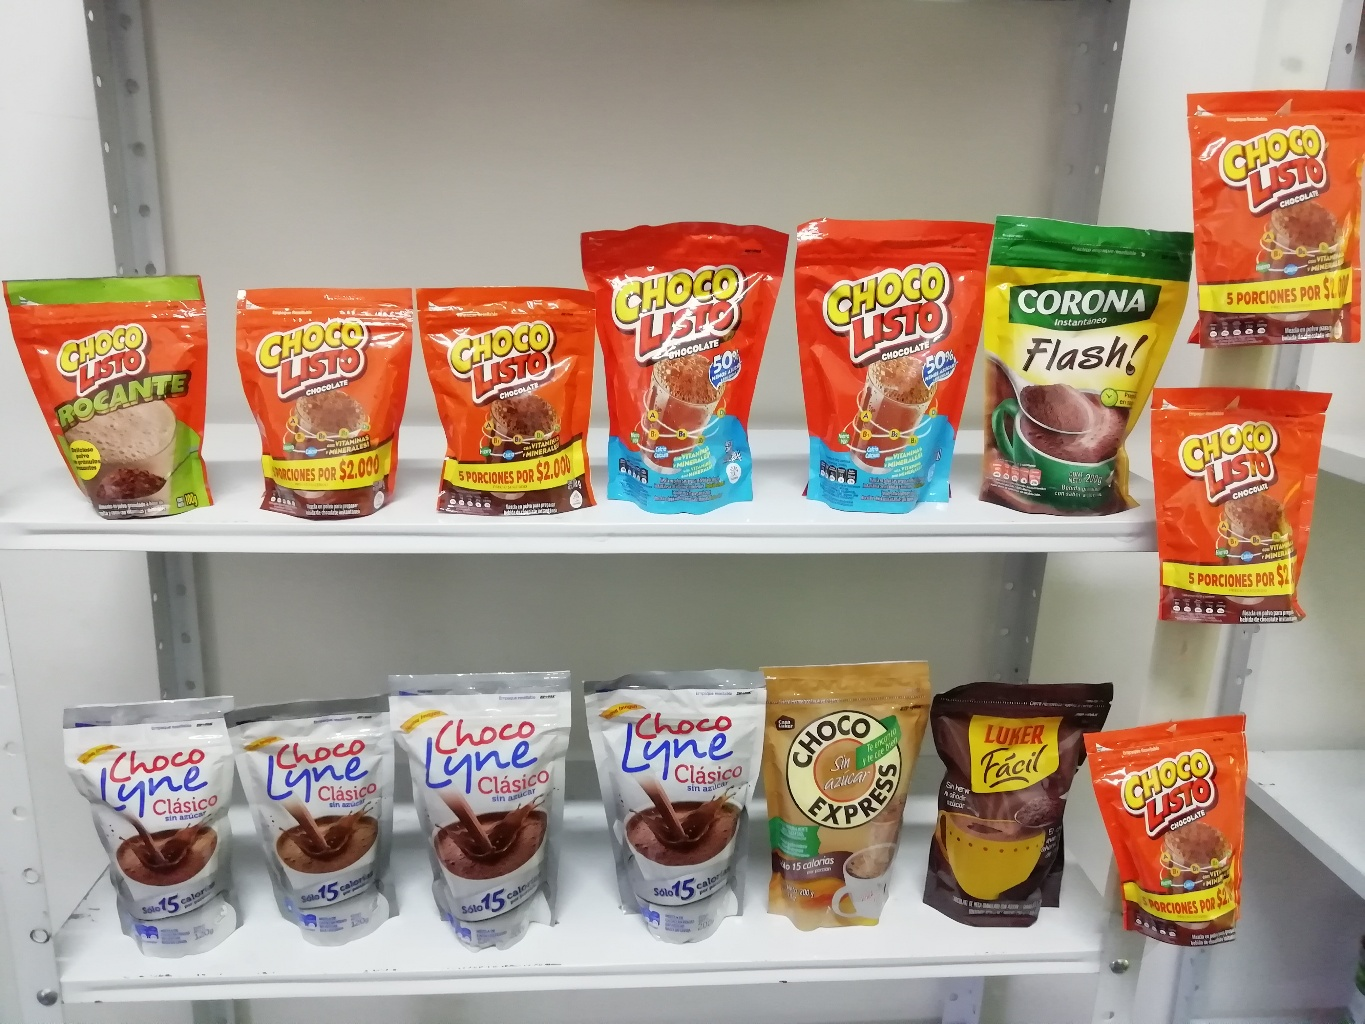COL0170102DYP10000: (3, 267, 232, 530)
COL0170104DYP20000: (786, 217, 992, 516)
